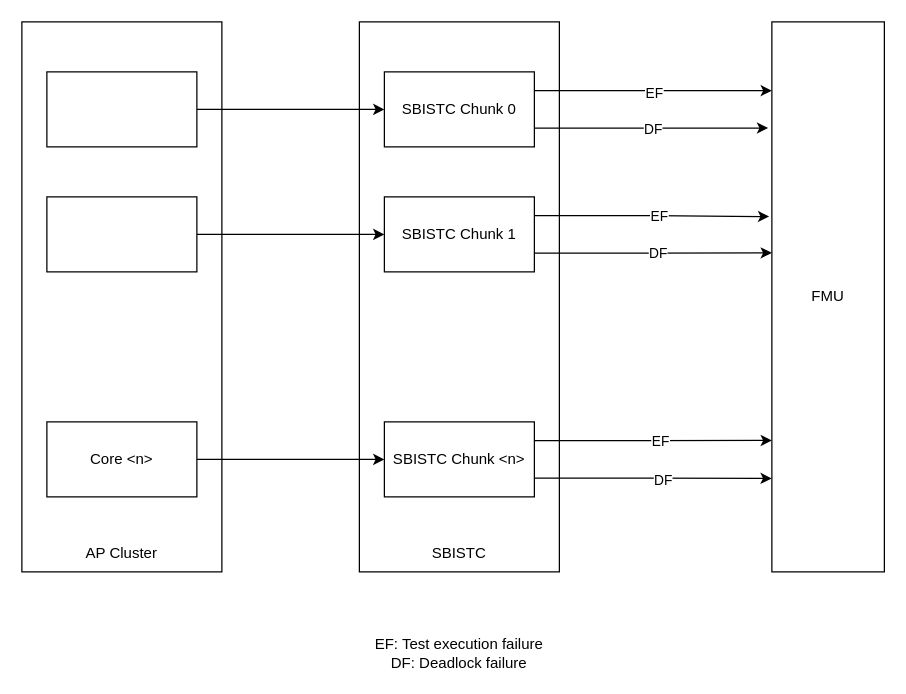
Image size: 906x694. Some labels were removed from this diagram. The box of each missing label's shape, as (x1, y1, x2, y2) in pixels:
Core 0: (46, 71, 197, 147)
Core 1: (46, 196, 197, 272)
